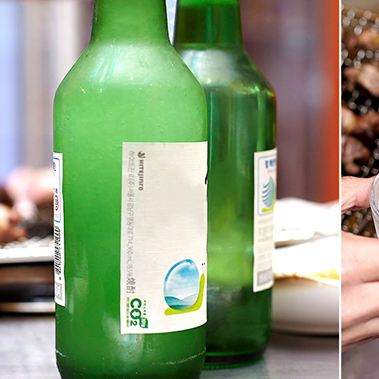soju: (50, 3, 276, 378)
